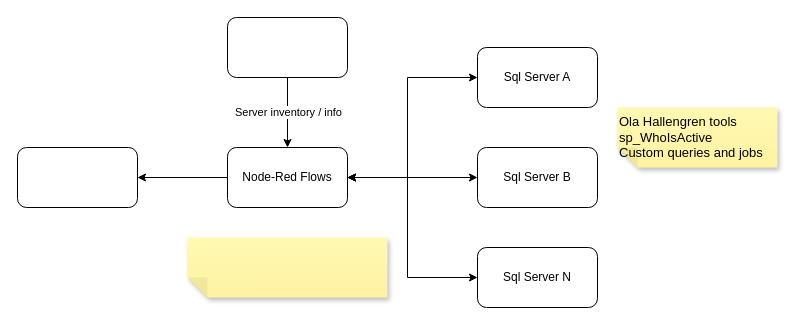
Image size: 801x325. Some labels were removed from this diagram. Here are the shapes that lost their labels. From the top down, the centre of each, then its label:
At point (287, 47): "AWS EC2 API".
At point (77, 177): "Monitoring UI Web App".
At point (288, 268): "Node-Red: - Install monitoring tools - Periodic polling for config".
